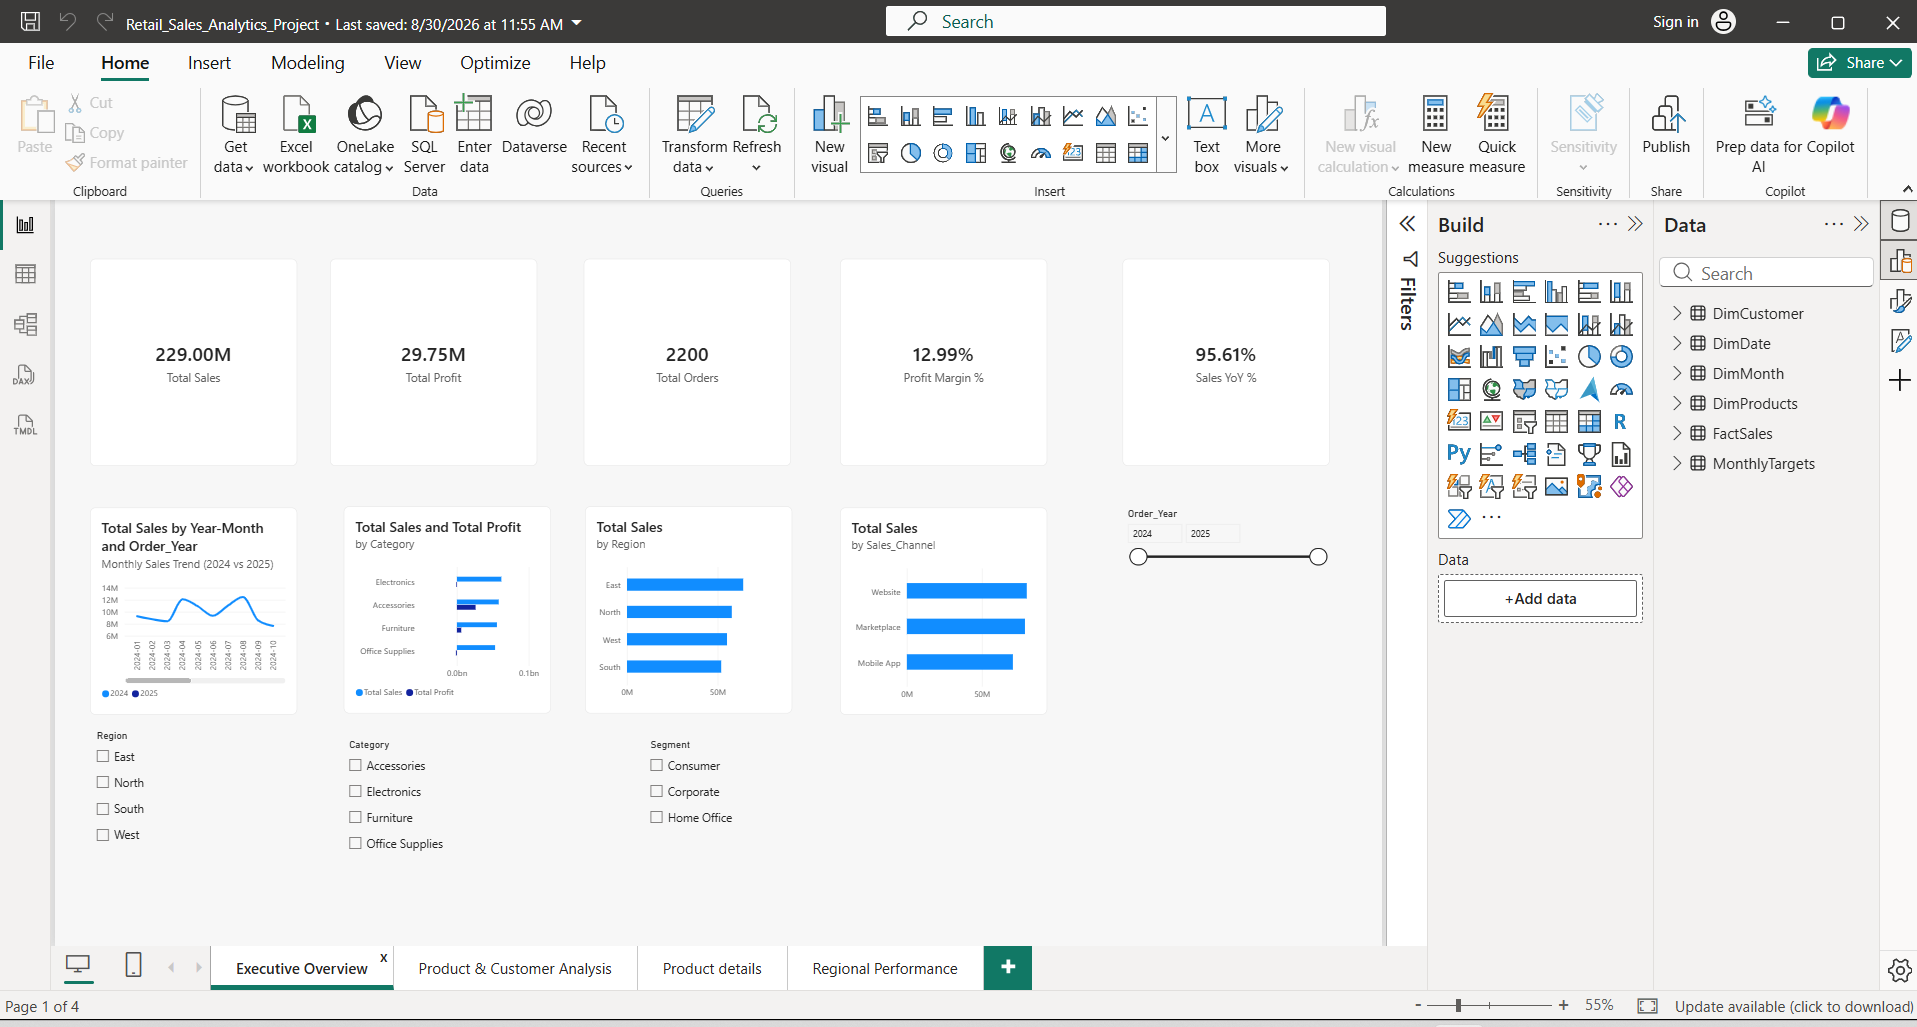

This screenshot's page, from the dashboard's own definition file:
{"tool":"powerbi","page":{"name":"Executive Overview","canvas":[1920,1080],"ordinal":0},"visuals":[{"type":"card","fields":{"Values":["FactSales.Total Sales"]},"box":[51.2,85.3,300,300],"z":0},{"type":"card","fields":{"Values":["FactSales.Total Profit"]},"box":[398.1,85.1,300,300],"z":1},{"type":"card","fields":{"Values":["FactSales.Total Orders"]},"box":[765.5,85.1,300,300],"z":2},{"type":"card","fields":{"Values":["FactSales.Profit Margin %"]},"box":[1136.5,85.1,300,300],"z":3},{"type":"card","fields":{"Values":["FactSales.Sales YoY %"]},"box":[1545.5,85.1,300,300],"z":4},{"type":"lineChart","fields":{"Category":["DimDate.Year-Month"],"Series":["FactSales.Order_Year"],"Y":["FactSales.Total Sales"]},"box":[50.7,445.2,300,300],"z":5},{"type":"clusteredBarChart","fields":{"Category":["DimProducts.Category"],"Y":["FactSales.Total Sales","FactSales.Total Profit"]},"box":[418,443.4,300,300],"z":6},{"type":"clusteredBarChart","fields":{"Category":["FactSales.Region"],"Y":["FactSales.Total Sales"]},"box":[767.3,443.4,300,300],"z":7},{"type":"clusteredBarChart","fields":{"Category":["FactSales.Sales_Channel"],"Y":["FactSales.Total Sales"]},"box":[1136.5,445.2,300,300],"z":8},{"type":"slicer","fields":{"Values":["FactSales.Order_Year"]},"box":[1545.5,445.2,300,300],"z":9},{"type":"slicer","fields":{"Values":["FactSales.Region"]},"box":[52.5,767.3,300,300],"z":10},{"type":"slicer","fields":{"Values":["DimProducts.Category"]},"box":[418,780,300,300],"z":11},{"type":"slicer","fields":{"Values":["DimCustomer.Segment"]},"box":[854.2,780,300,300],"z":12}]}

Visuals, with their boxes on the page's 1920x1080 design canvas (x1, y1, x2, y2). These are canvas units, not pixel positions in the 1917x1027 screenshot, which may show the page scaled, cropped or inside an application window:
card - FactSales.Total Sales: rect(51, 85, 351, 385)
card - FactSales.Total Profit: rect(398, 85, 698, 385)
card - FactSales.Total Orders: rect(766, 85, 1066, 385)
card - FactSales.Profit Margin %: rect(1136, 85, 1436, 385)
card - FactSales.Sales YoY %: rect(1546, 85, 1846, 385)
lineChart - DimDate.Year-Month x FactSales.Order_Year: rect(51, 445, 351, 745)
clusteredBarChart - DimProducts.Category x FactSales.Total Sales: rect(418, 443, 718, 743)
clusteredBarChart - FactSales.Region x FactSales.Total Sales: rect(767, 443, 1067, 743)
clusteredBarChart - FactSales.Sales_Channel x FactSales.Total Sales: rect(1136, 445, 1436, 745)
slicer - FactSales.Order_Year: rect(1546, 445, 1846, 745)
slicer - FactSales.Region: rect(52, 767, 352, 1067)
slicer - DimProducts.Category: rect(418, 780, 718, 1080)
slicer - DimCustomer.Segment: rect(854, 780, 1154, 1080)
